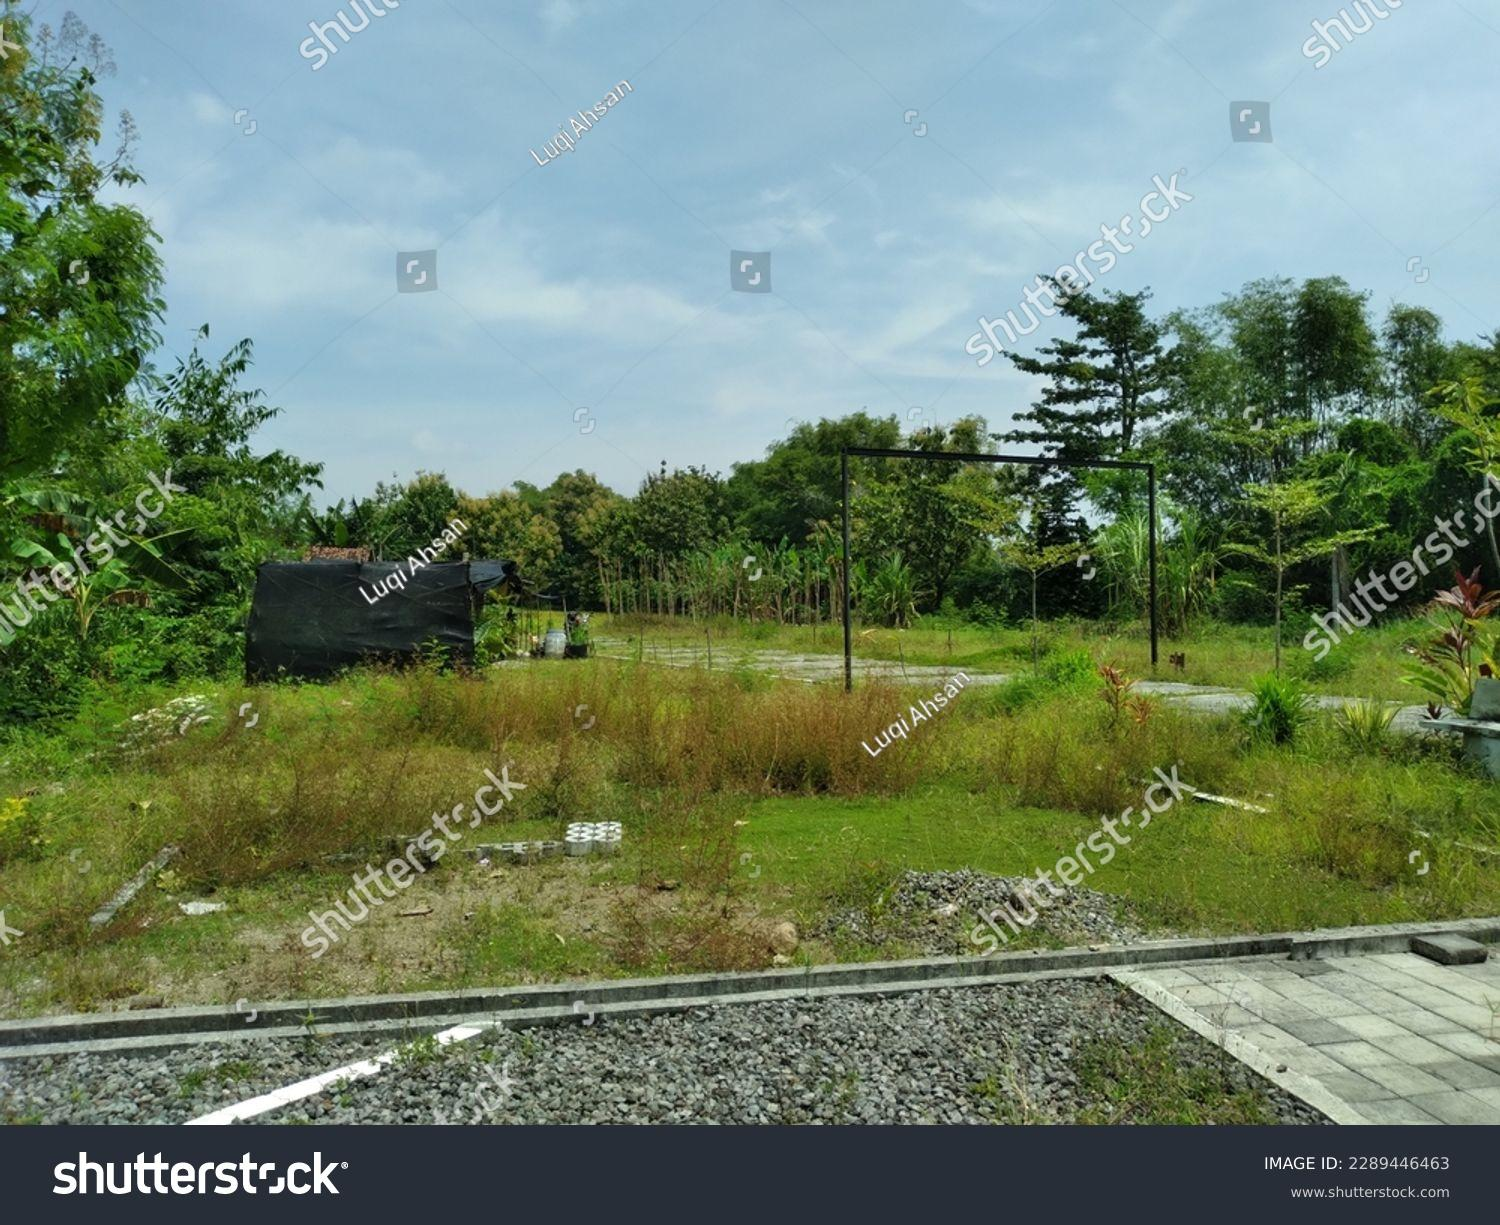overgrown grass: (0, 641, 1499, 1017)
